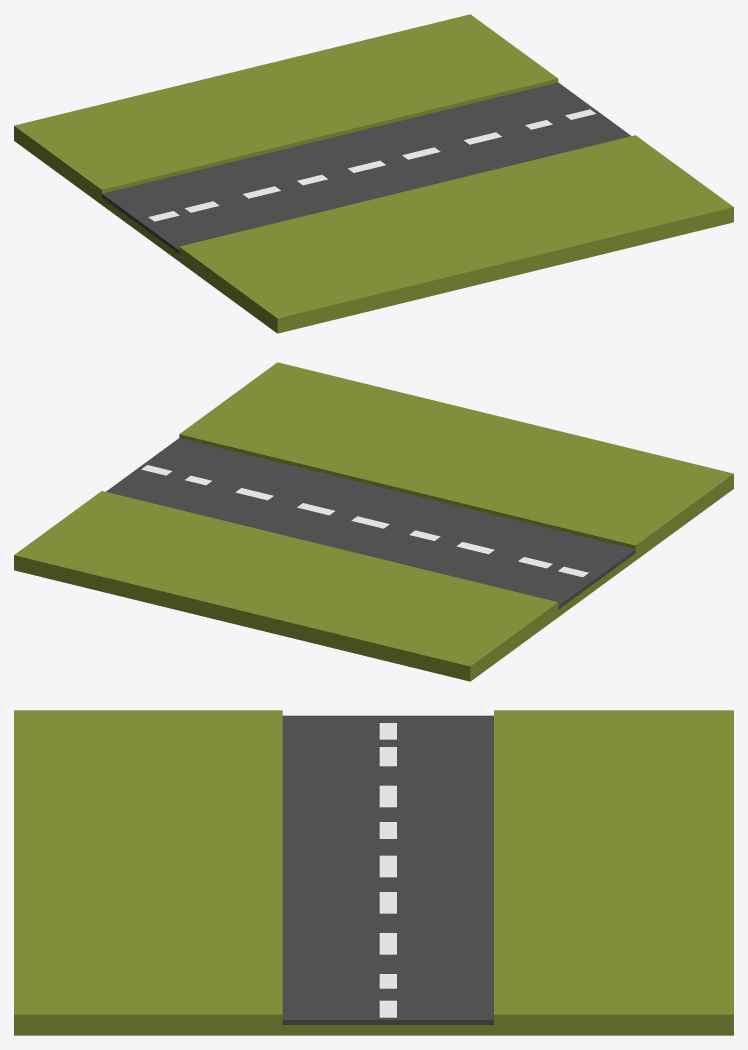
The model's file is map v1.0-20.obj.
3 renders of one model, top to bottom at view 1: azimuth 30°, elevation 25°; view 2: azimuth 150°, elevation 25°; view 3: azimuth 270°, elevation 25°, orthographic. The views are drawn at different scales.
Bounding box in the file's own units: 12.6 × 0.4 × 12.6.
1 material, 1 textured.
